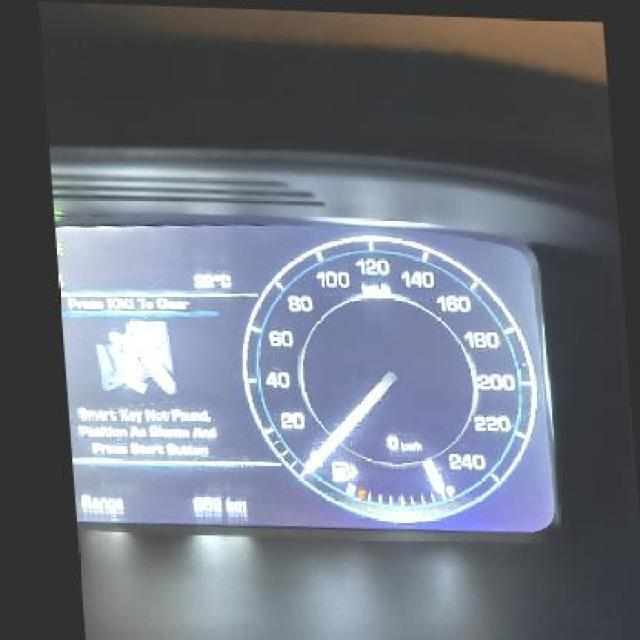Low fuel level: (322, 458, 344, 480)
